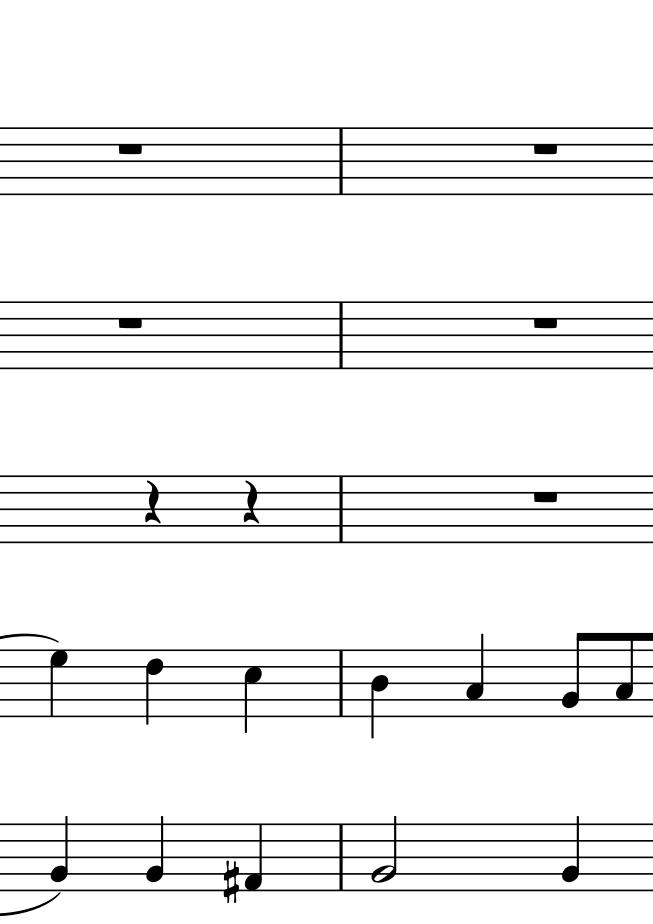2_2: (369, 813, 400, 894)
4_1: (246, 821, 266, 893)
4_2: (47, 811, 70, 894), (562, 811, 584, 893), (146, 811, 167, 893)
4_3: (465, 630, 486, 719)
4_4: (369, 648, 392, 739)
4_5: (243, 648, 265, 738)
4_6: (143, 649, 165, 727)
4_7: (47, 649, 68, 719)
8_2: (561, 630, 590, 720)
8_3: (617, 630, 637, 722)
Rests1: (529, 312, 564, 333), (111, 313, 147, 333), (117, 139, 147, 161), (530, 487, 561, 508), (531, 139, 561, 157)
Rests4: (237, 478, 267, 528), (139, 478, 165, 529)
Sharp: (221, 858, 240, 907)
Single_barline: (333, 300, 350, 368), (333, 475, 350, 542), (334, 822, 351, 889), (333, 128, 350, 194), (333, 649, 350, 715)
